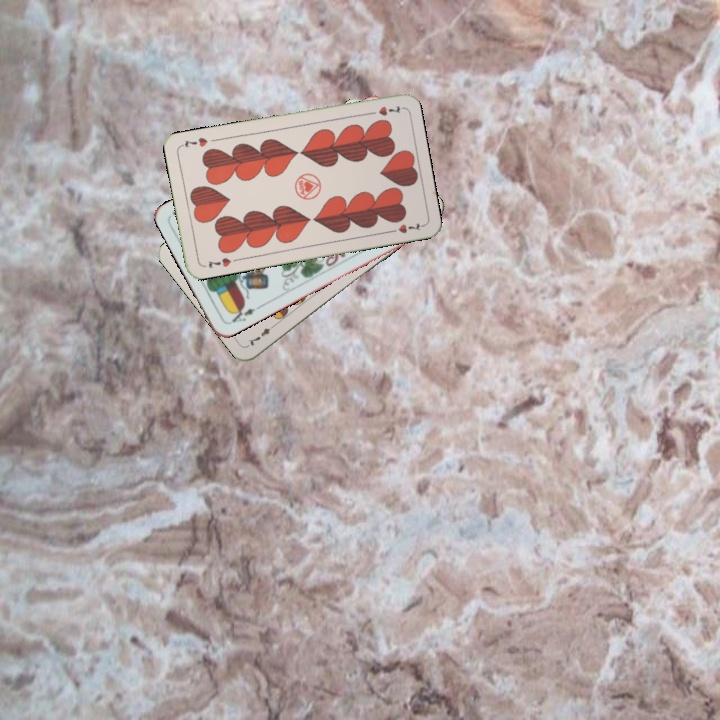E7: (244, 320, 279, 348)
EA: (225, 301, 263, 327)
H7: (364, 102, 404, 118), (204, 253, 234, 271)
